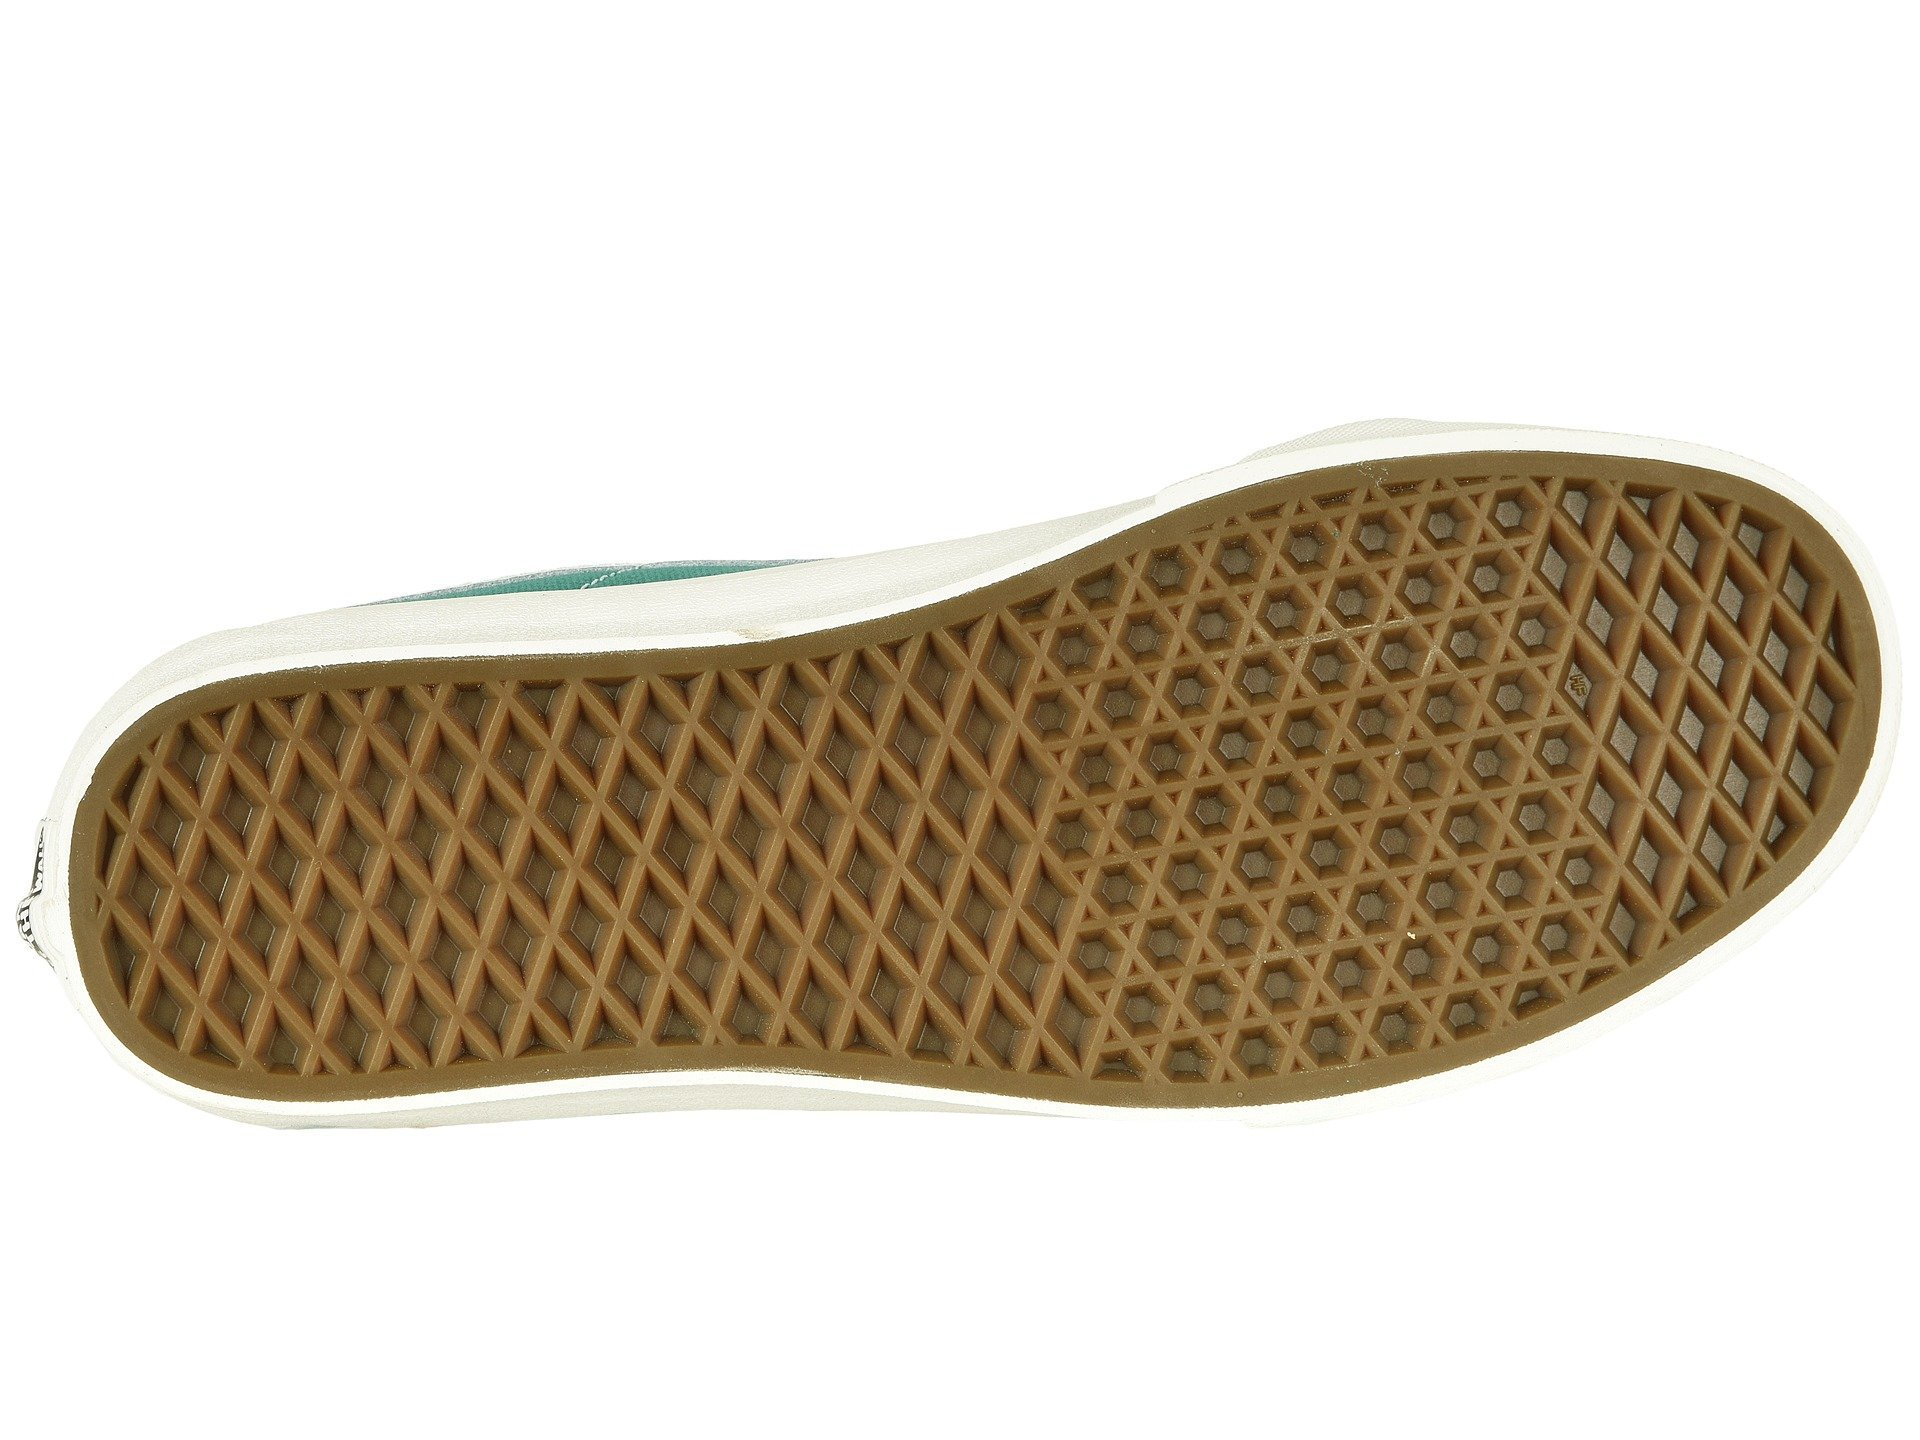polygon: (1190, 523, 1492, 995)
quad: (534, 675, 1008, 1048)
triangle: (1190, 523, 1492, 995)
